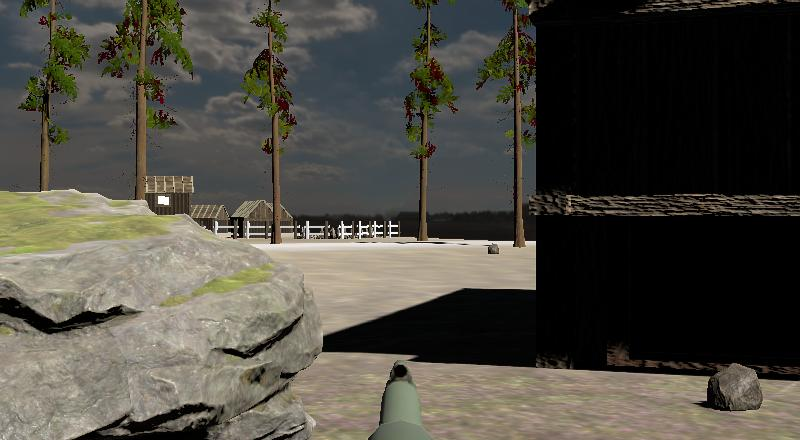House: (528, 2, 800, 365), (233, 199, 294, 237), (144, 175, 195, 220), (191, 203, 230, 232)
